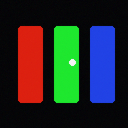0 point: (69, 59, 75, 65)
